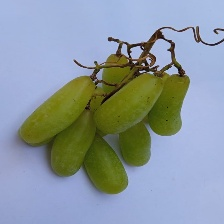grapes: (21, 13, 159, 206)
